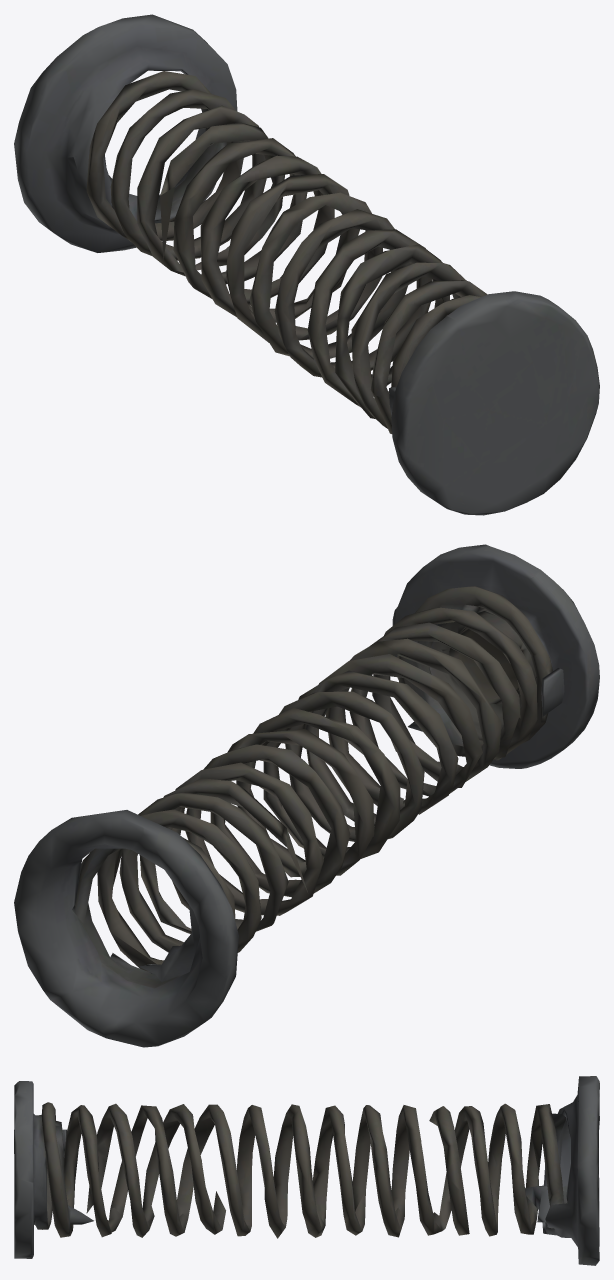
Rendered from spring_coil.6022bfd714.glb.
3 renders of one model, top to bottom at view 1: azimuth 30°, elevation 25°; view 2: azimuth 150°, elevation 25°; view 3: azimuth 270°, elevation 25°, orthographic. The views are drawn at different scales.
Parts seen in each view (by area): view 1: spring_coil; view 2: spring_coil; view 3: spring_coil.
Boxes of the visible parts, x1,y1,x2,y2 form: spring_coil: (14,14,599,515); spring_coil: (14,544,599,1047); spring_coil: (14,1076,599,1265).
Size of the model in its own units: 0.0391 by 0.0391 by 0.12.
Materials: 1 (1 with a texture image).
